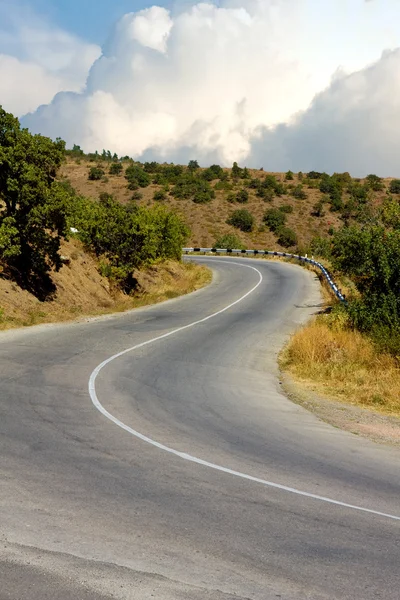rightTrun: (2, 320, 288, 573)
